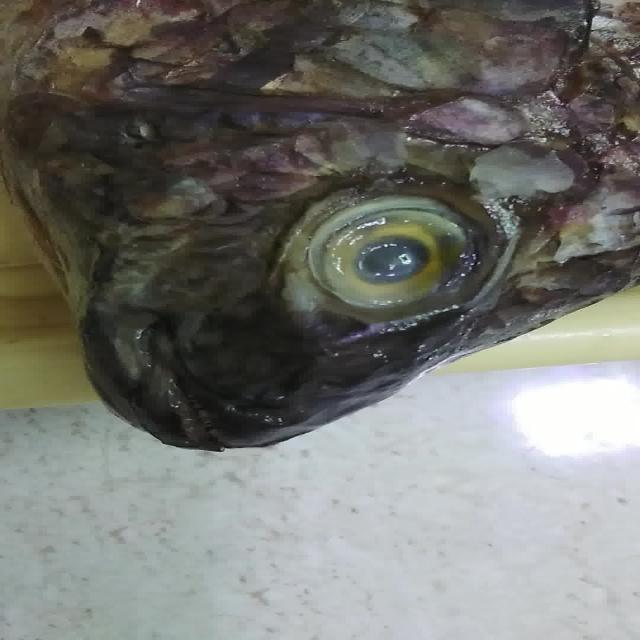Non-Fresh: (283, 153, 522, 338)
